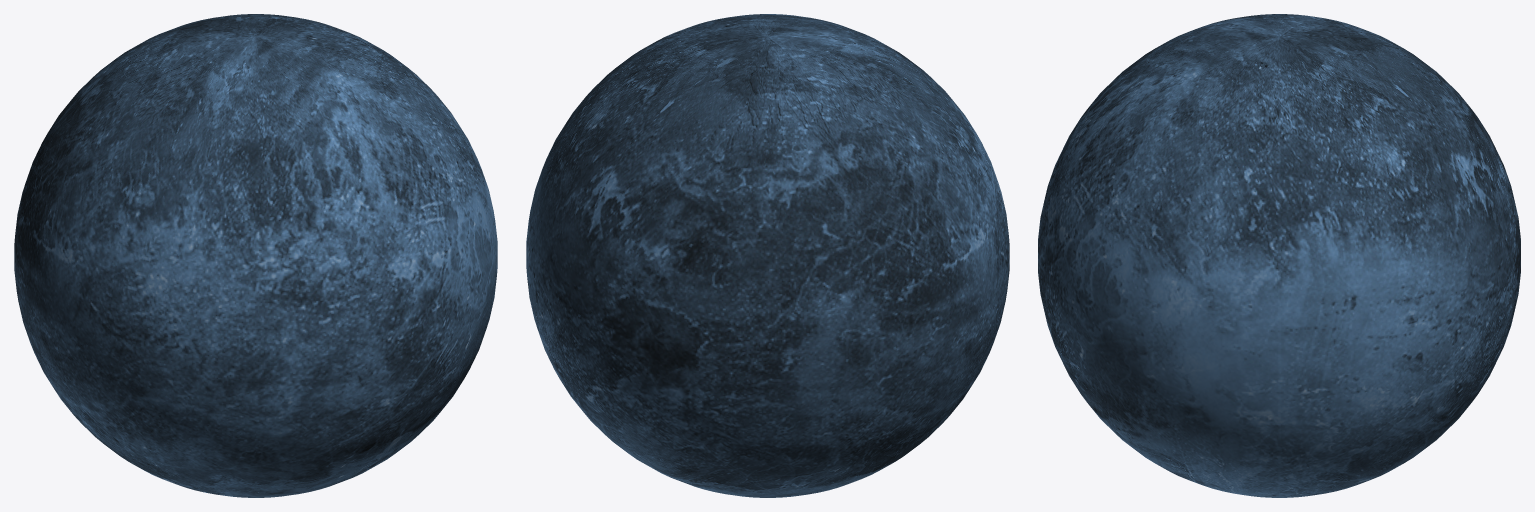
The model's file is Coruscant.obj.
3 renders of one model, left to right at view 1: azimuth 30°, elevation 25°; view 2: azimuth 150°, elevation 25°; view 3: azimuth 270°, elevation 25°, orthographic.
Bounding box in the file's own units: 89.04 × 89.16 × 88.93.
Materials: 1 (1 with a texture image).
